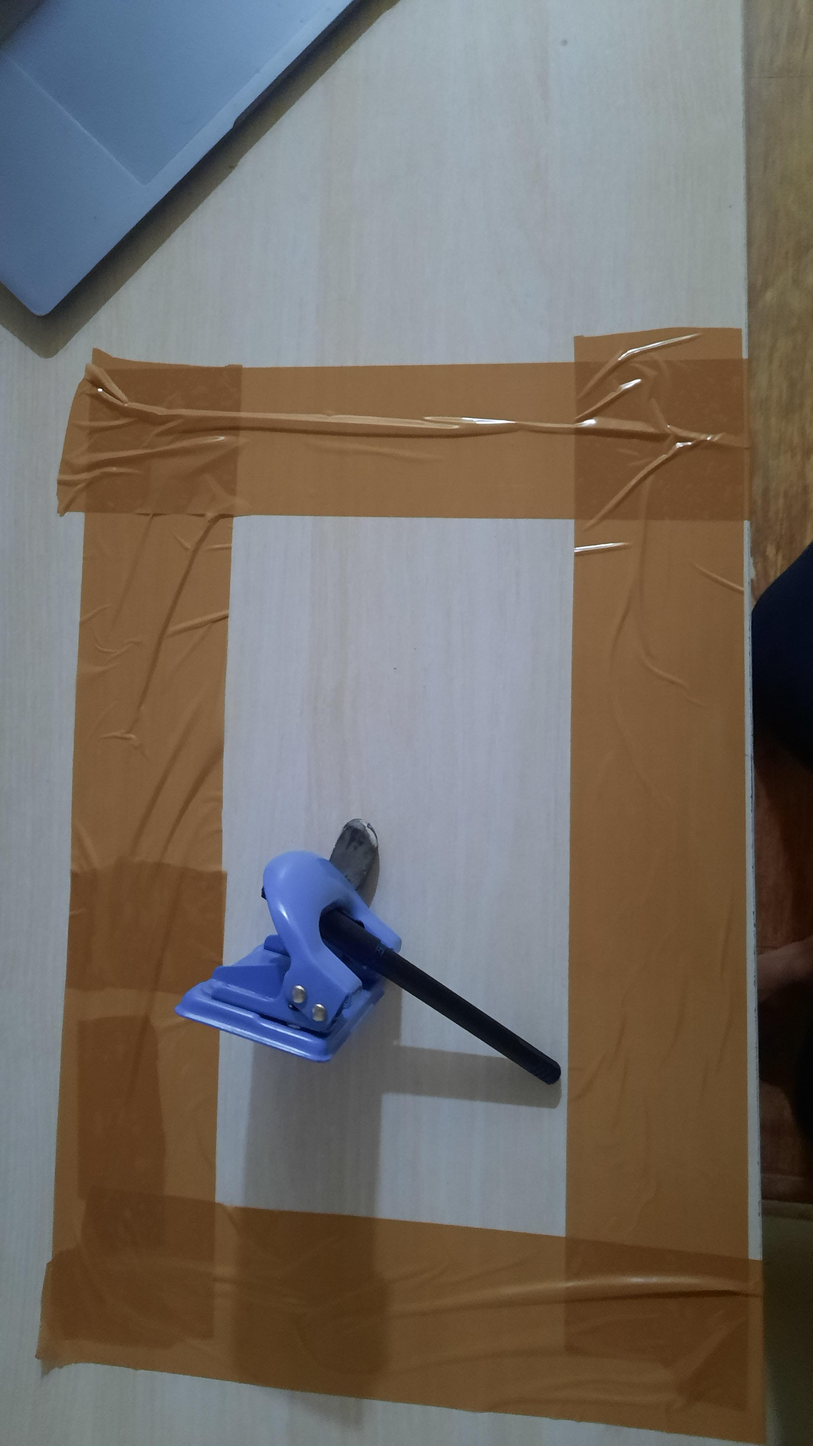Eraser: (329, 819, 380, 907)
Pen: (319, 906, 561, 1085)
Punch: (174, 850, 402, 1064)
